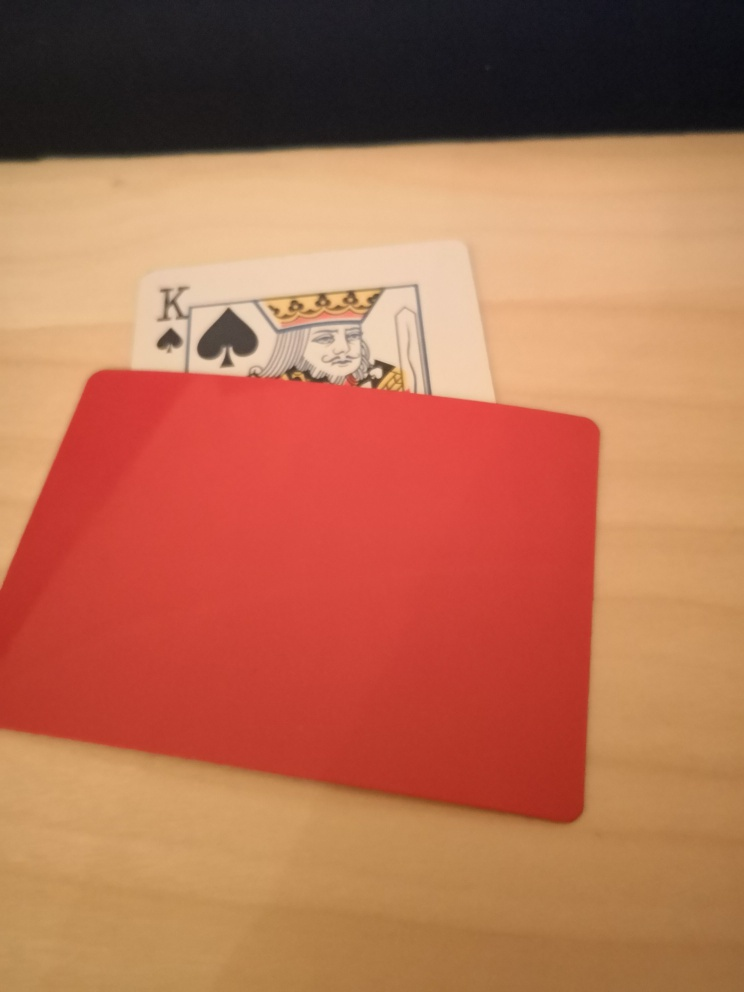king: (133, 241, 498, 405)
